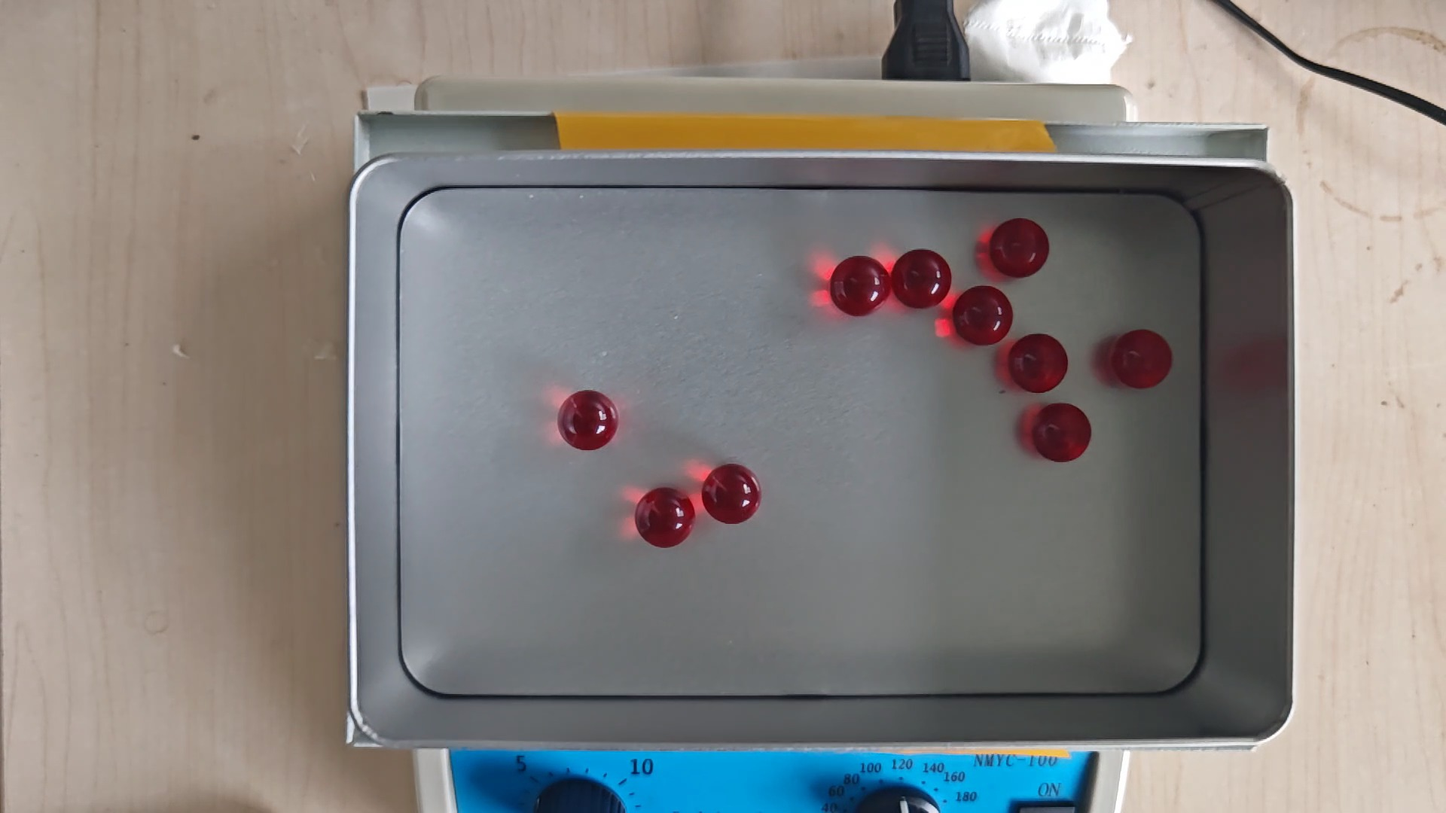ball: (1032, 402, 1093, 464), (635, 487, 695, 549), (558, 390, 618, 452), (892, 248, 952, 309), (1112, 329, 1172, 390), (702, 463, 761, 525), (830, 254, 888, 317), (954, 286, 1013, 346), (991, 218, 1049, 279), (1010, 333, 1068, 393)
container: (398, 187, 1203, 696)
